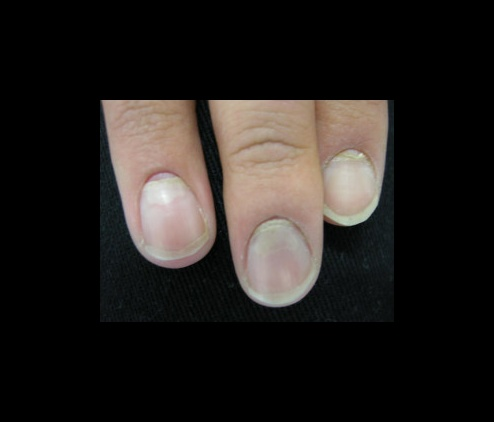SJS-TEN: (93, 77, 234, 285), (216, 101, 331, 314), (313, 105, 399, 230)
